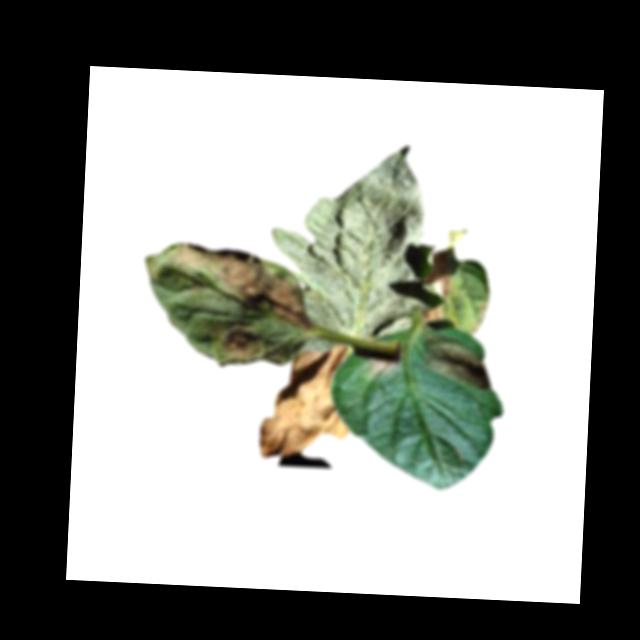Late_blight: (165, 242, 316, 328), (259, 340, 356, 462), (201, 320, 294, 366), (419, 334, 492, 391), (428, 251, 449, 295), (365, 355, 396, 381), (469, 302, 487, 334), (422, 303, 445, 324)
healthy: (269, 139, 448, 342)
